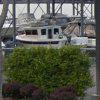Boat: (10, 18, 82, 44)
